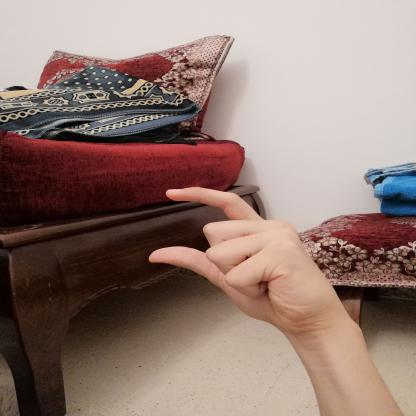DELL: (134, 176, 350, 338)
